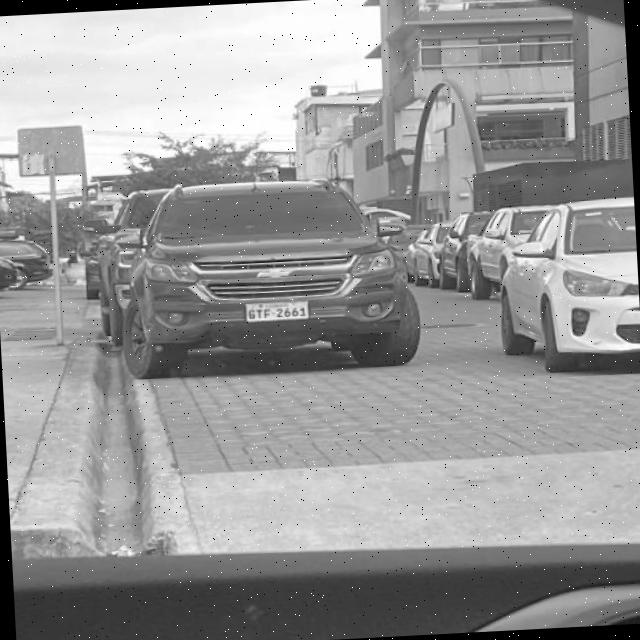Placa: (247, 302, 307, 321)
